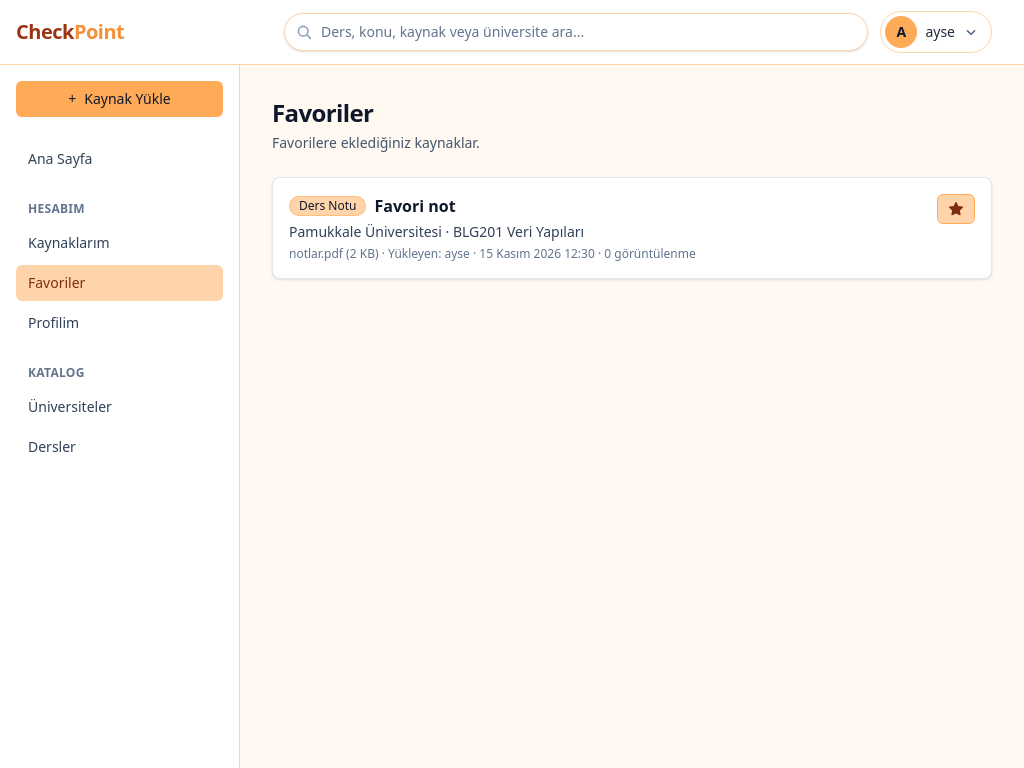
Scenario: FavoritesPage › lists favorites and removes one with the star button
The width and height of the screenshot is (1024, 768).
Expected: the link "Favori not" is shown, x1=374 y1=195 x2=456 y2=217
Click the button named "Favori not: Favorilerden çıkar" at (956, 209), box x1=937 y1=194 x2=975 y2=224
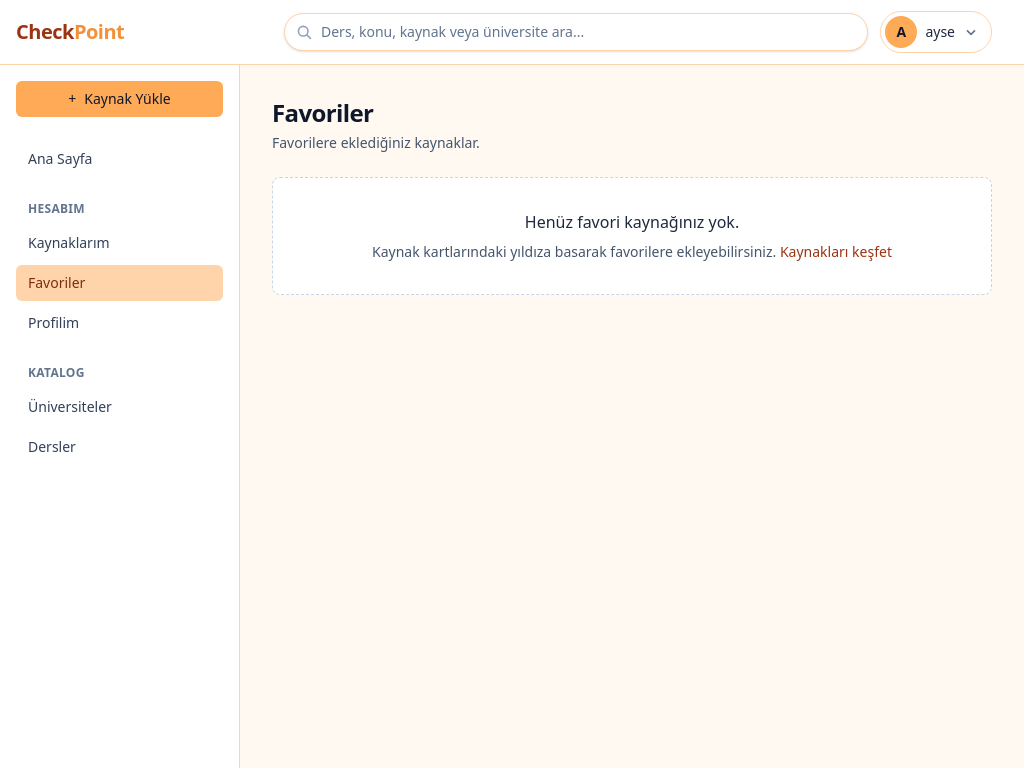
Expected: the text "Henüz favori kaynağınız yok." is shown, x1=525 y1=211 x2=739 y2=233
